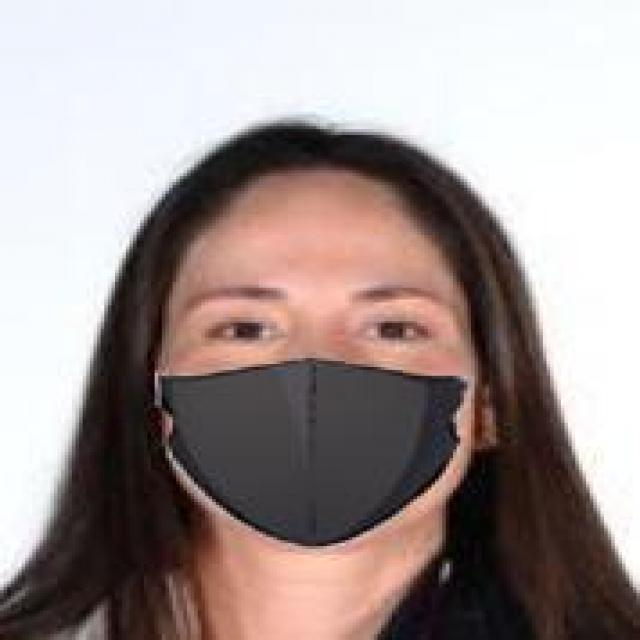mask: (130, 85, 540, 564)
